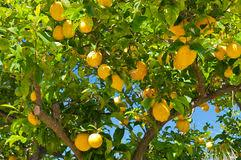lemon: (174, 45, 197, 70), (176, 19, 193, 43), (196, 15, 216, 34), (130, 60, 147, 80), (153, 102, 170, 122), (50, 1, 66, 21), (75, 133, 91, 151), (227, 41, 241, 58), (110, 74, 124, 90), (164, 25, 178, 41), (79, 16, 92, 33), (98, 63, 111, 80), (63, 20, 75, 38), (88, 51, 102, 66), (88, 133, 102, 147), (214, 45, 227, 60), (176, 118, 189, 133), (114, 95, 126, 111), (53, 25, 65, 40), (28, 111, 40, 126), (143, 86, 156, 99), (158, 52, 170, 66), (72, 47, 87, 57), (224, 65, 233, 77), (98, 0, 112, 6), (31, 90, 38, 102), (202, 103, 209, 112), (206, 141, 213, 149)
